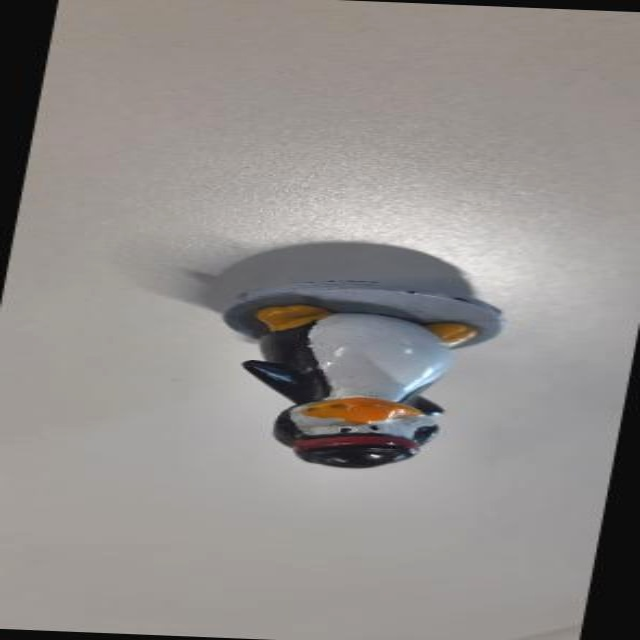Penguin: (157, 273, 528, 479)
